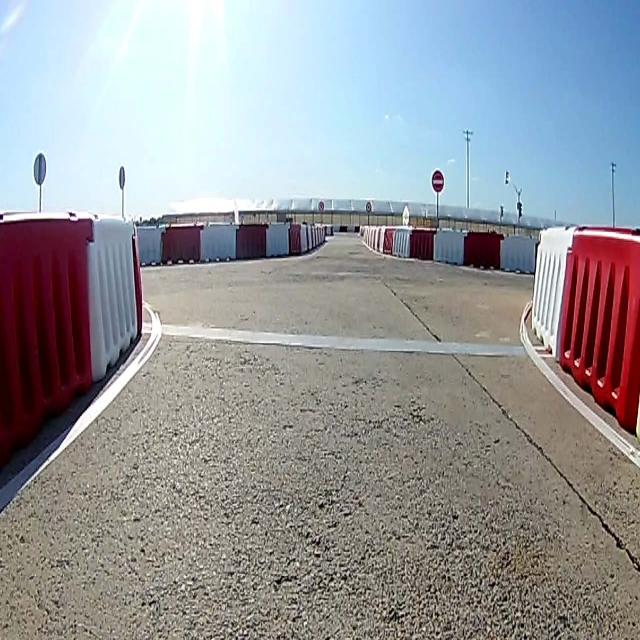girisyok: (430, 169, 446, 195)
